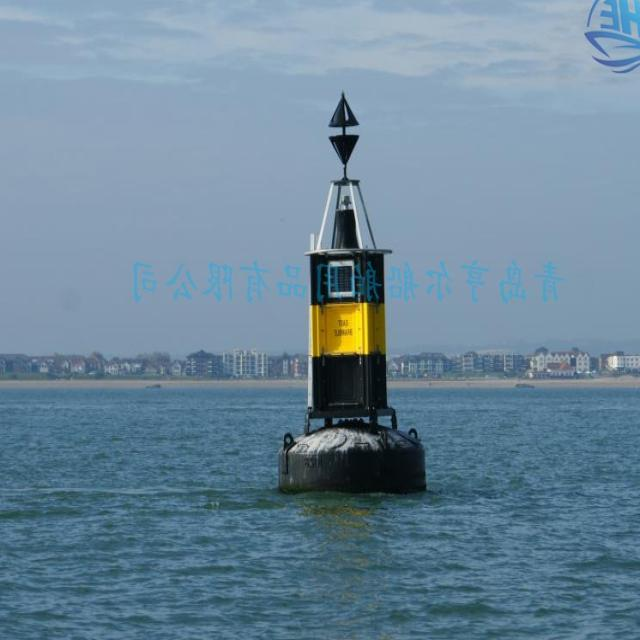buoy: (274, 86, 428, 496)
